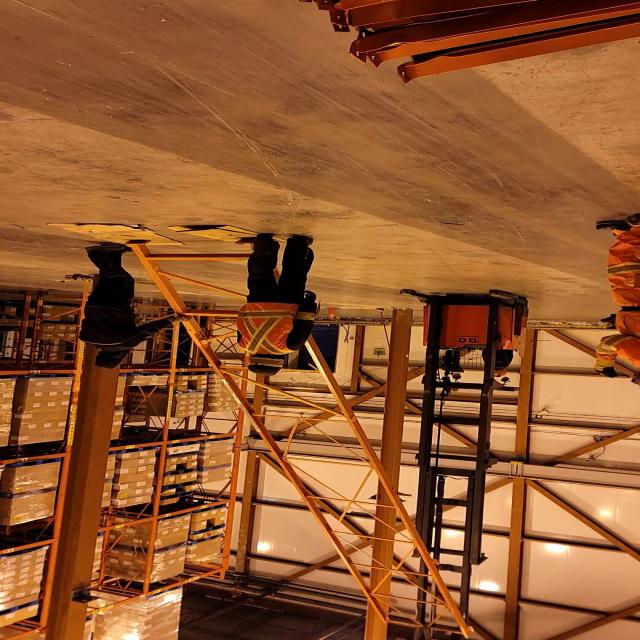forklift: (389, 287, 535, 468)
human: (72, 238, 191, 380), (234, 230, 326, 378), (586, 214, 640, 396), (459, 344, 525, 380)
objectofinterest: (120, 237, 479, 640), (45, 222, 188, 248), (169, 225, 294, 247)
